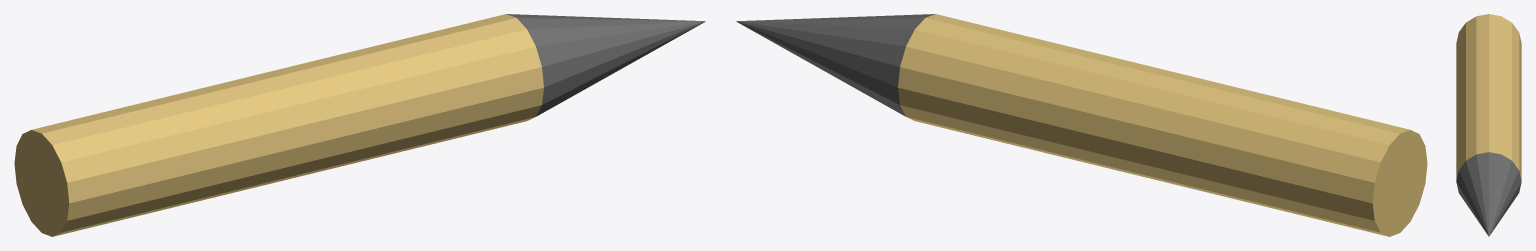
Rendered from Shell.glb.
The picture shows the model from 3 angles, left to right: view 1: azimuth 30°, elevation 25°; view 2: azimuth 150°, elevation 25°; view 3: azimuth 270°, elevation 25°; orthographic projection. The views are drawn at different scales.
Parts seen in each view (by area): view 1: Shell_Prefab; view 2: Shell_Prefab; view 3: Shell_Prefab.
Boxes of the visible parts, bbox=[...] form: Shell_Prefab: bbox=[14, 14, 705, 236]; Shell_Prefab: bbox=[736, 14, 1427, 236]; Shell_Prefab: bbox=[1456, 14, 1521, 236].
Bounding box in the file's own units: 0.84 × 0.12 × 0.12.
